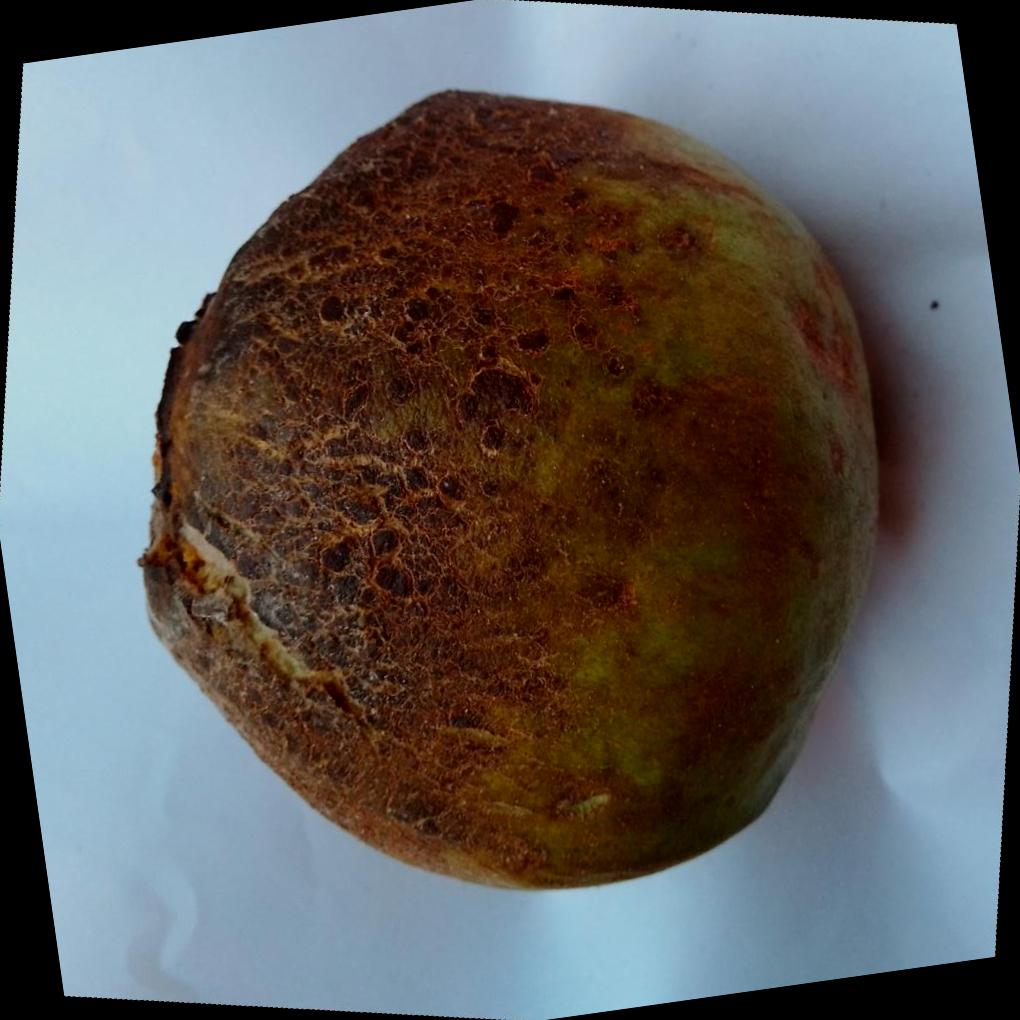FreshOrange: (133, 87, 879, 894)
